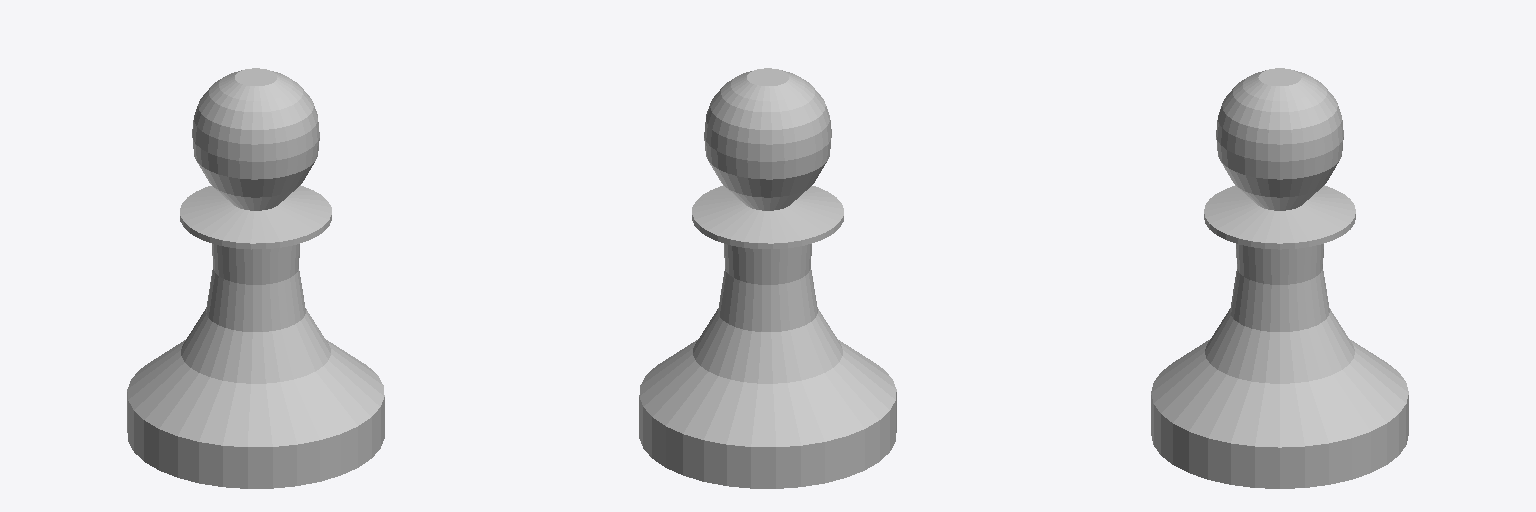
The model's file is pawn.obj.
3 views of the same model, side by side, from view 1: azimuth 30°, elevation 25°; view 2: azimuth 150°, elevation 25°; view 3: azimuth 270°, elevation 25° (orthographic).
Parts seen in each view (by area): view 1: pawn; view 2: pawn; view 3: pawn.
Part boxes in pixels (x1,y1,x2,y2): pawn: (127, 68, 384, 488); pawn: (639, 68, 896, 488); pawn: (1151, 68, 1408, 488).
Size of the model in its own units: 0.5741 by 0.8776 by 0.5741.